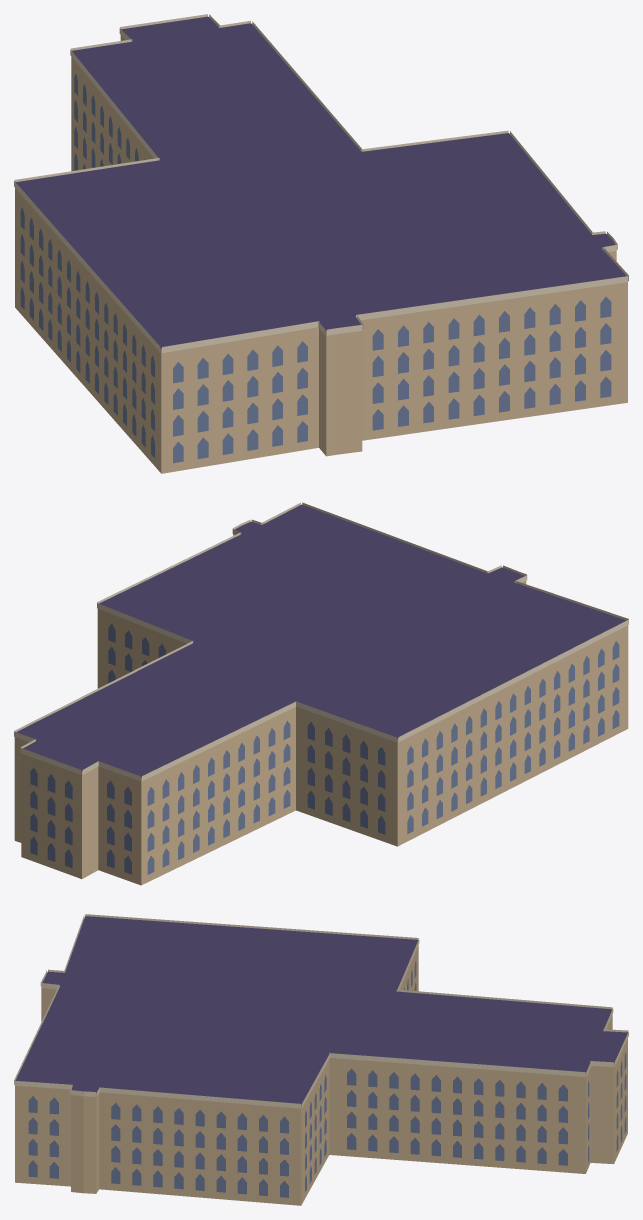
The model's file is core-talbot-college-day.glb.
The picture shows the model from 3 angles, top to bottom: view 1: azimuth 30°, elevation 25°; view 2: azimuth 150°, elevation 25°; view 3: azimuth 270°, elevation 25°; orthographic projection. The views are drawn at different scales.
Visible parts, largest first — view 1: campus/core-talbot-college-day-0; view 2: campus/core-talbot-college-day-0; view 3: campus/core-talbot-college-day-0.
Part boxes in pixels (left/top/right/bottom): campus/core-talbot-college-day-0: left=14, top=14, right=628, bottom=473; campus/core-talbot-college-day-0: left=14, top=502, right=628, bottom=885; campus/core-talbot-college-day-0: left=14, top=914, right=628, bottom=1205.
Bounding box in the file's own units: 62.68 × 15.75 × 85.83.
